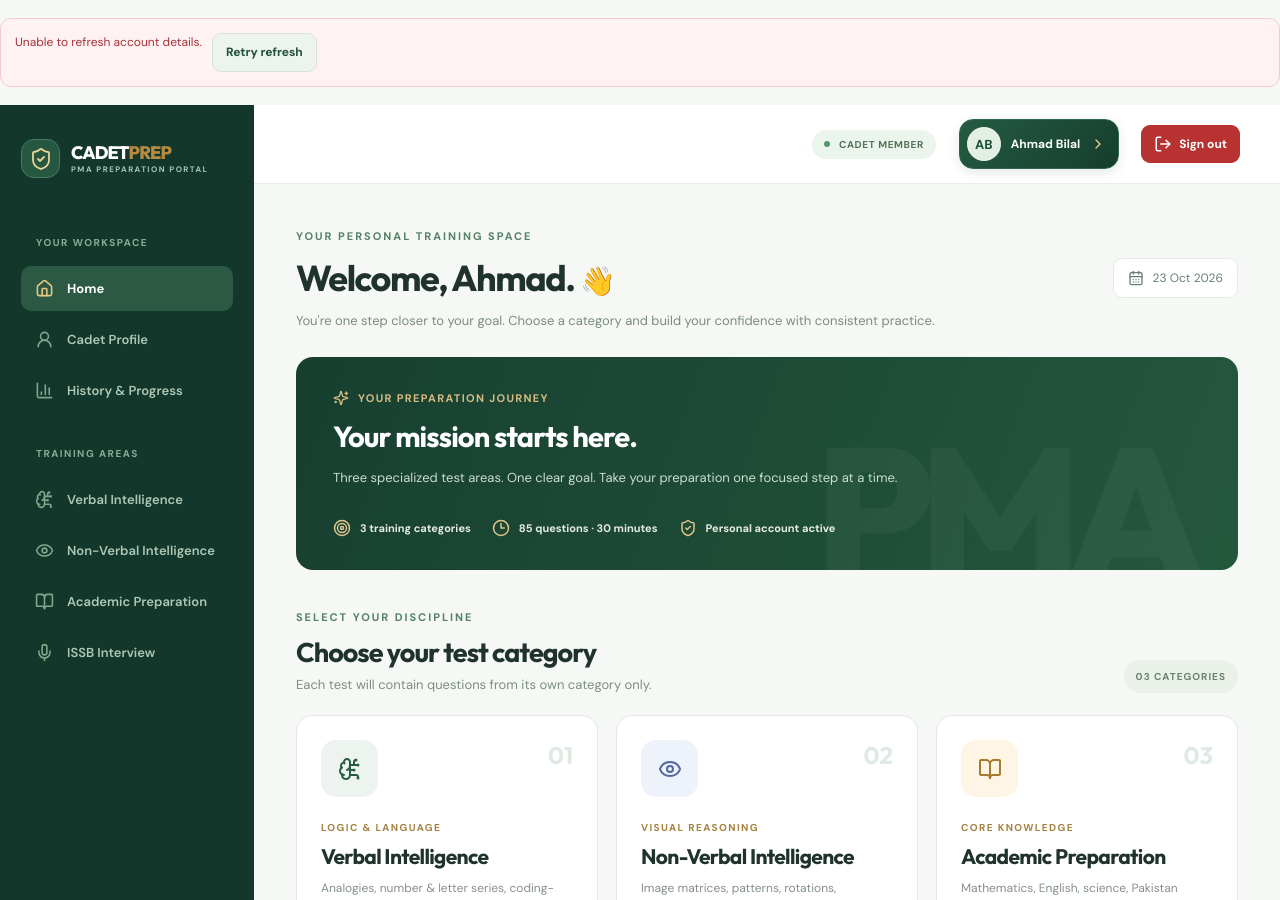
Test case: a failed navigation refresh leaves the page usable and provides a retry
Expected: the message "Unable to refresh account details. Retry refresh" is shown, [0,18,1279,87]
Expected: the link "Verbal Intelligence" is shown, [35,490,183,509]
Click the button "Retry refresh" at x=264, y=53, box [212,33,317,72]
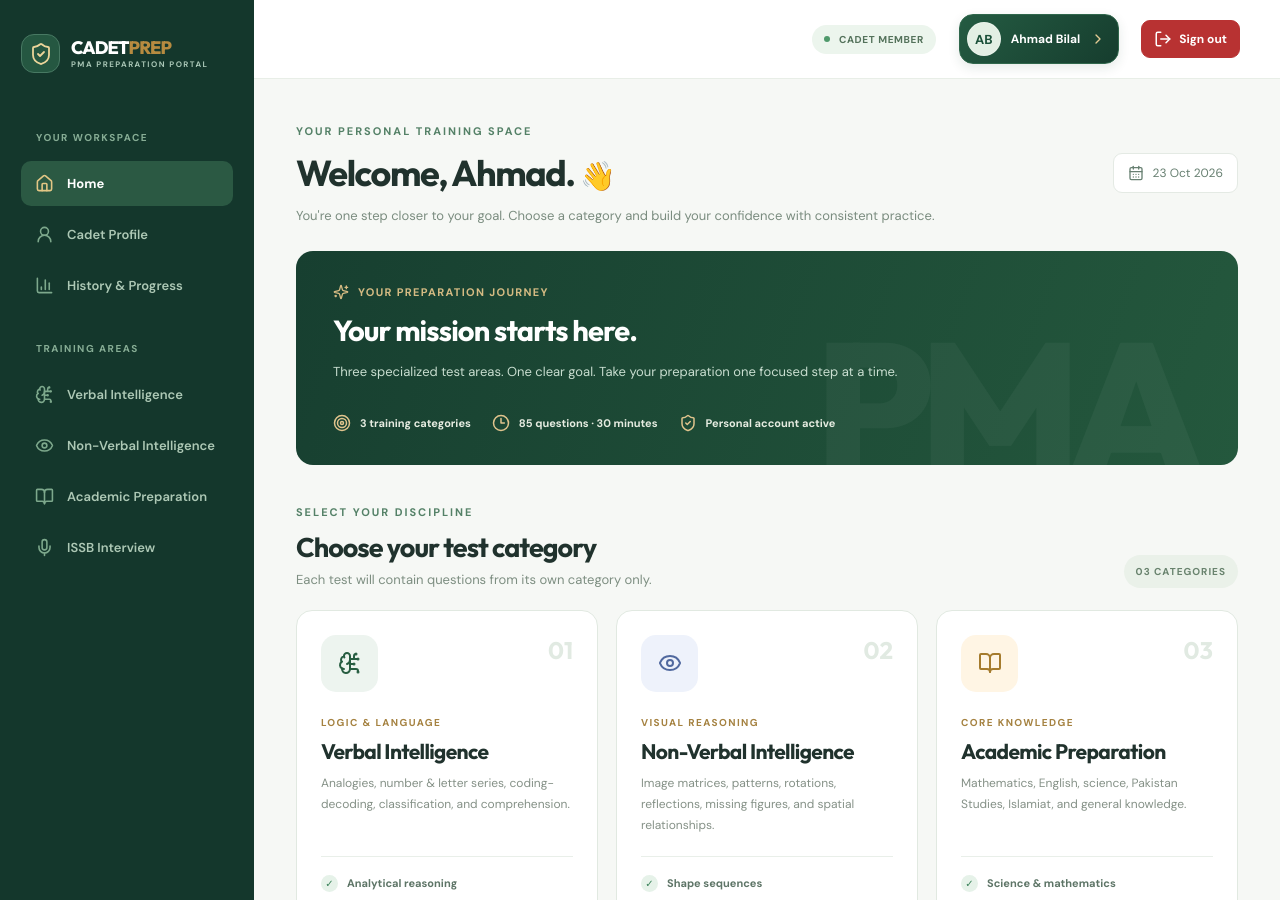
Expected: the message "Unable to refresh account details. Retry refresh" is gone
